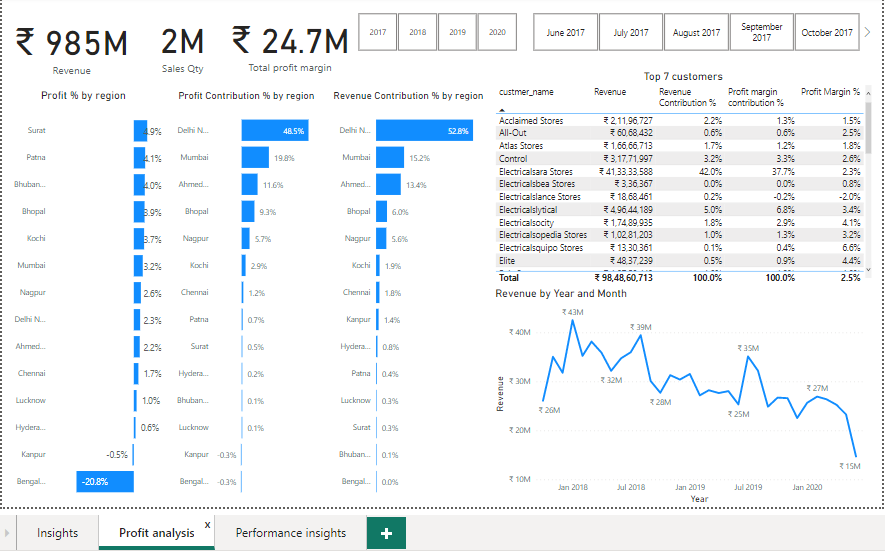

The page's visual inventory and layout, read from the dashboard file:
{"tool":"powerbi","page":{"name":"Profit analysis","canvas":[1380,800],"ordinal":1},"visuals":[{"type":"card","fields":{"Values":["base measures.Revenue"]},"box":[6.3,6.3,206.3,138.6],"z":0},{"type":"card","fields":{"Values":["base measures.Sales Qty"]},"box":[212.6,3.1,140.2,138.6],"z":1000},{"type":"barChart","title":"Profit % by region","fields":{"Y":["base measures.Profit Margin %"],"Category":["sales markets.markets_name"]},"box":[0,144.9,255.1,655.1],"z":2000},{"type":"barChart","title":"Profit Contribution % by region","fields":{"Y":["base measures.Profit margin contribution %"],"Category":["sales markets.markets_name"]},"box":[255.1,144.9,255.1,655.1],"z":3000},{"type":"slicer","fields":{"Values":["sales date.year"]},"box":[533.9,18.9,297.6,72.4],"z":4000},{"type":"slicer","fields":{"Values":["sales date.normalise cy date"]},"box":[807.9,18.9,560.6,72.4],"z":5000},{"type":"tableEx","title":"Top 7 customers","fields":{"Values":["sales customers.custmer_name","base measures.Revenue","base measures.Revenue Contribution %","base measures.Profit margin contribution %","base measures.Profit Margin %"]},"box":[768.5,115,600,340.2],"z":6000},{"type":"lineChart","fields":{"Y":["base measures.Revenue"],"Category":["sales date.normalise cy date.Variation.Date Hierarchy.Year","sales date.normalise cy date.Variation.Date Hierarchy.Month"]},"box":[768.5,455.1,600,344.9],"z":7000},{"type":"card","fields":{"Values":["base measures.Total_profit_margin"]},"box":[352.8,6.3,198.4,132.3],"z":8000},{"type":"barChart","title":"Revenue Contribution % by region","fields":{"Y":["base measures.Revenue Contribution %"],"Category":["sales markets.markets_name"]},"box":[510.2,144.9,255.1,655.1],"z":9000}]}

Visuals, with their boxes on the page's 1380x800 design canvas (x1, y1, x2, y2). These are canvas units, not pixel positions in the 885x551 screenshot, which may show the page scaled, cropped or inside an application window:
card - base measures.Revenue: <region>6, 6, 213, 145</region>
card - base measures.Sales Qty: <region>213, 3, 353, 142</region>
"Profit % by region" barChart: <region>0, 145, 255, 800</region>
"Profit Contribution % by region" barChart: <region>255, 145, 510, 800</region>
slicer - sales date.year: <region>534, 19, 832, 91</region>
slicer - sales date.normalise cy date: <region>808, 19, 1368, 91</region>
"Top 7 customers" tableEx: <region>768, 115, 1368, 455</region>
lineChart - base measures.Revenue x sales date.normalise cy date.Variation.Date Hierarchy.Year: <region>768, 455, 1368, 800</region>
card - base measures.Total_profit_margin: <region>353, 6, 551, 139</region>
"Revenue Contribution % by region" barChart: <region>510, 145, 765, 800</region>
